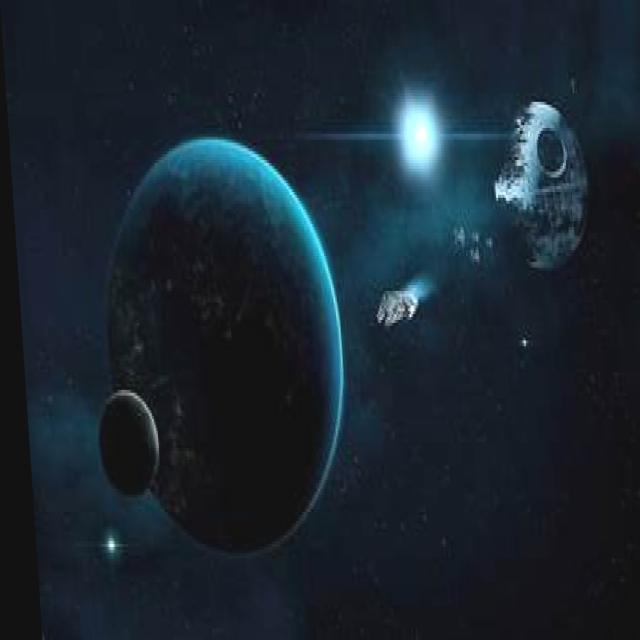deathStar: (485, 104, 586, 272)
